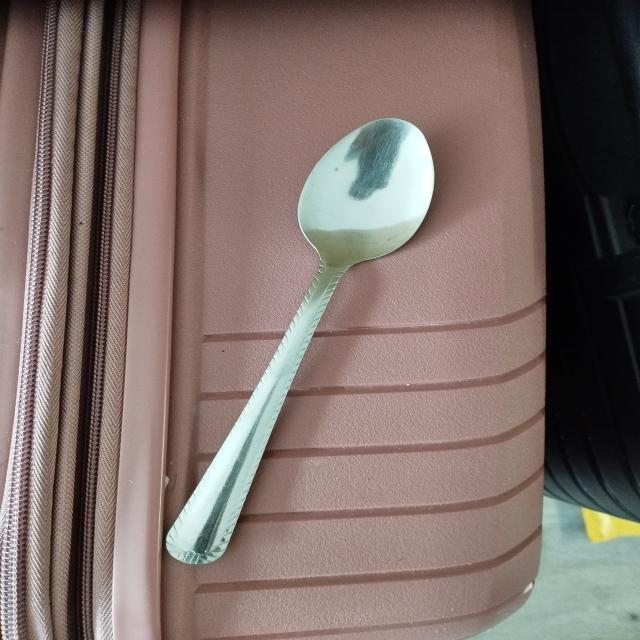Spoon: (149, 109, 451, 571)
